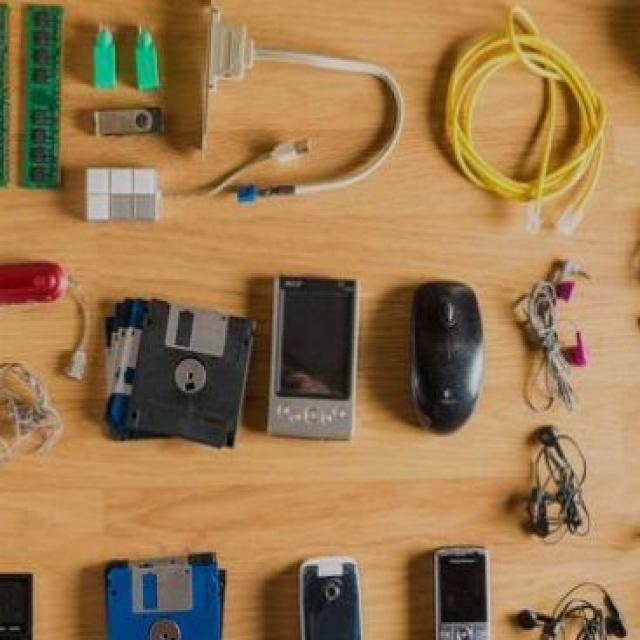electronic: (175, 10, 409, 243), (436, 5, 616, 274), (85, 270, 274, 483), (249, 242, 385, 464), (388, 261, 512, 469), (517, 238, 636, 432), (0, 262, 117, 403), (522, 429, 630, 580), (78, 8, 181, 165), (394, 524, 525, 640), (278, 542, 383, 640), (523, 558, 640, 638), (77, 160, 172, 251)
